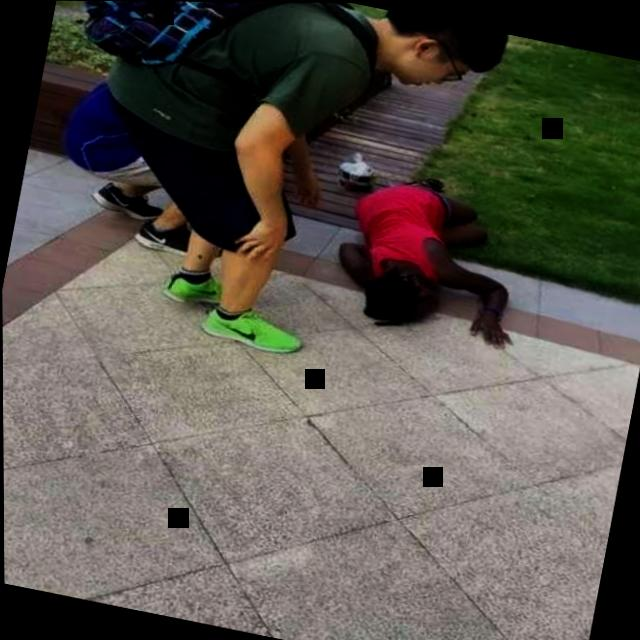Fall-Detected: (304, 143, 540, 371)
